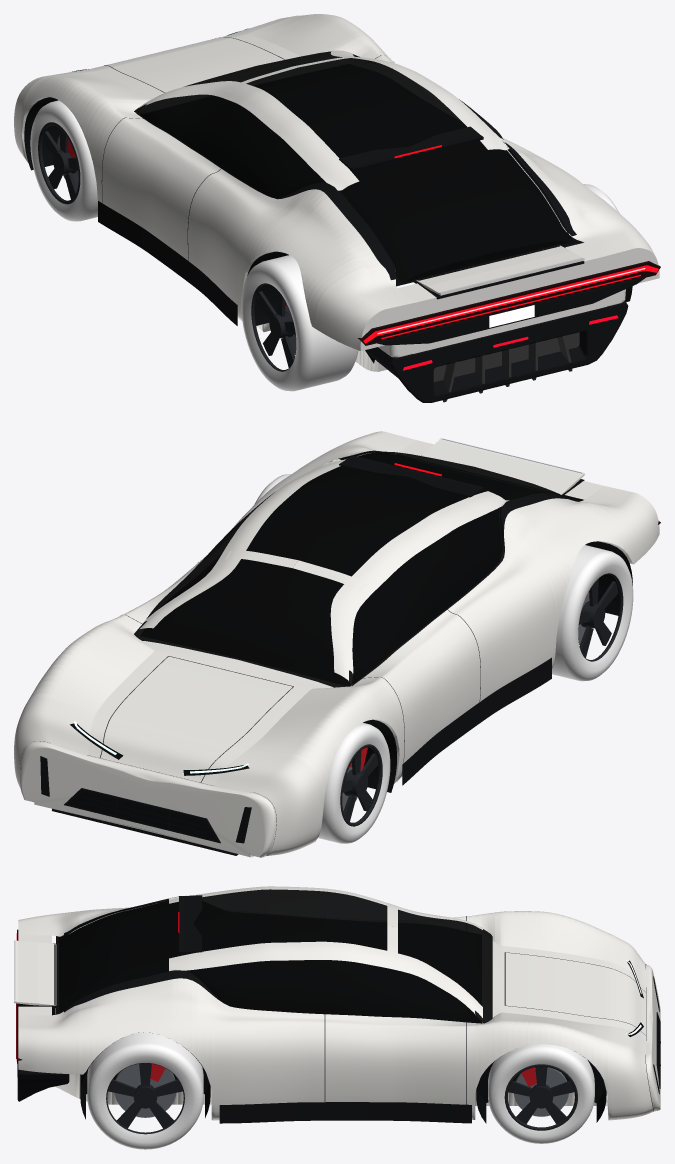
The model's file is xwave_roadster_v4_4_step07.glb.
3 renders of one model, top to bottom at view 1: azimuth 30°, elevation 25°; view 2: azimuth 150°, elevation 25°; view 3: azimuth 270°, elevation 25°, orthographic. The views are drawn at different scales.
Visible parts, largest first — view 1: Body_Paint, Glass_Canopy, Rear_LowerBumper, Trim_GlossBlack, Tyre_RL, Tyre_FL, Trim_LEDHousing, Trim_SatinBlack, Spoiler, Diffuser, Rear_LED, Rim_FL (+3 smaller); view 2: Body_Paint, Glass_Canopy, Tyre_RL, Tyre_FL, Spoiler, Trim_SatinBlack, Trim_GlossBlack, Trim_WheelLiner, Front_Intake, Rim_FL, Rim_RL, Wheel_Liners (+2 smaller); view 3: Body_Paint, Glass_Canopy, Tyre_RR, Tyre_FR, Trim_SatinBlack, Trim_GlossBlack, Spoiler, Rim_FR, Rim_RR, Wheel_Liners, Disc_RR, Rear_LowerBumper (+3 smaller).
Boxes of the visible parts, x1,y1,x2,y2 form: Body_Paint: (14, 14, 659, 371); Glass_Canopy: (134, 51, 572, 282); Rear_LowerBumper: (366, 301, 628, 402); Trim_GlossBlack: (282, 126, 646, 345); Tyre_RL: (241, 255, 358, 391); Tyre_FL: (30, 100, 97, 221); Trim_LEDHousing: (358, 261, 660, 345); Trim_SatinBlack: (98, 201, 237, 325); Spoiler: (416, 245, 584, 295); Diffuser: (433, 332, 579, 402); Rear_LED: (363, 265, 658, 343); Rim_FL: (38, 122, 80, 204); Body_Paint: (14, 431, 659, 857); Glass_Canopy: (134, 450, 564, 687); Tyre_RL: (552, 545, 633, 681); Tyre_FL: (318, 722, 390, 843); Spoiler: (421, 438, 584, 494); Trim_SatinBlack: (402, 657, 551, 785); Trim_GlossBlack: (339, 452, 584, 535); Trim_WheelLiner: (68, 791, 216, 840); Front_Intake: (40, 756, 251, 843); Rim_FL: (340, 744, 382, 826); Rim_RL: (578, 573, 623, 661); Wheel_Liners: (363, 541, 632, 792); Body_Paint: (18, 886, 660, 1120); Glass_Canopy: (59, 889, 492, 1023); Tyre_RR: (87, 1032, 203, 1149); Tyre_FR: (488, 1044, 594, 1143); Trim_SatinBlack: (219, 1102, 471, 1123); Trim_GlossBlack: (16, 895, 223, 1058); Spoiler: (14, 940, 56, 1005); Rim_FR: (504, 1064, 577, 1130); Rim_RR: (106, 1063, 184, 1134); Wheel_Liners: (80, 1032, 606, 1123); Disc_RR: (114, 1063, 176, 1117); Rear_LowerBumper: (17, 1064, 69, 1101).
Bounding box in the file's own units: 2.13 × 1.18 × 4.11.
